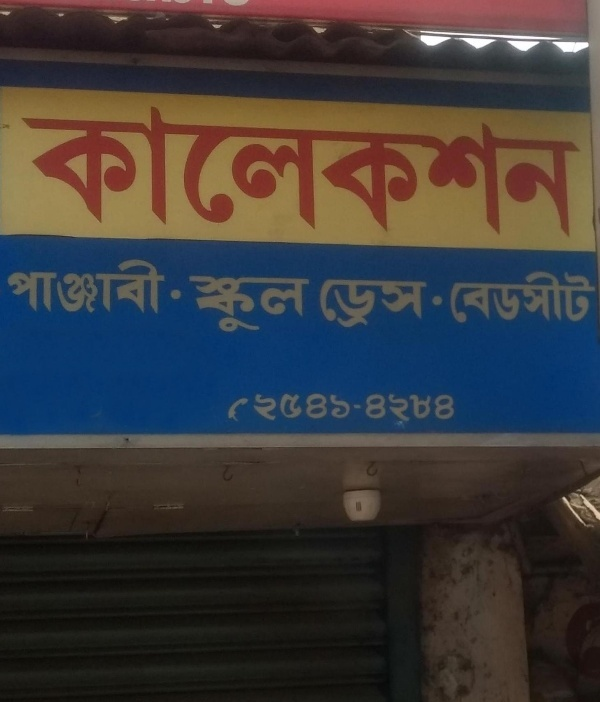text: (33, 99, 48, 242), (49, 99, 64, 242), (65, 99, 80, 242), (81, 99, 96, 242), (97, 99, 112, 242), (113, 99, 128, 242), (129, 99, 144, 242), (145, 99, 160, 242), (161, 99, 176, 242), (177, 99, 192, 242), (193, 99, 208, 242), (209, 99, 224, 242), (225, 99, 240, 242), (241, 99, 256, 242), (257, 99, 272, 242), (273, 99, 288, 242), (289, 99, 304, 242), (305, 99, 320, 242), (321, 99, 336, 242), (337, 99, 352, 242), (353, 99, 368, 242), (369, 99, 384, 242), (385, 99, 400, 242), (401, 99, 416, 242), (417, 99, 432, 242), (433, 99, 448, 242), (449, 99, 464, 242), (465, 99, 480, 242), (481, 99, 496, 242), (497, 99, 512, 242), (513, 99, 528, 242), (529, 99, 544, 242), (545, 99, 560, 242), (561, 99, 576, 242), (19, 99, 32, 242), (449, 268, 464, 329), (465, 268, 480, 329), (481, 268, 496, 329), (497, 268, 512, 329), (513, 268, 528, 329), (529, 268, 544, 329), (545, 268, 560, 329), (561, 268, 576, 329), (577, 268, 592, 329), (193, 276, 208, 335), (209, 276, 224, 335), (225, 276, 240, 335), (241, 276, 256, 335), (257, 276, 272, 335), (273, 276, 288, 335), (289, 276, 304, 335), (305, 276, 320, 335), (17, 257, 32, 315), (33, 257, 48, 315), (49, 257, 64, 315), (65, 257, 80, 315), (81, 257, 96, 315), (97, 257, 112, 315), (113, 257, 128, 315), (129, 257, 144, 315), (145, 257, 160, 315), (2, 257, 16, 315), (321, 279, 336, 331), (337, 279, 352, 331), (353, 279, 368, 331), (369, 279, 384, 331), (385, 279, 400, 331), (401, 279, 416, 331), (577, 99, 582, 242), (417, 279, 428, 331), (433, 272, 445, 319), (257, 390, 272, 426), (273, 390, 288, 426), (289, 390, 304, 426), (305, 390, 320, 426), (321, 390, 336, 426), (337, 390, 352, 426), (353, 390, 368, 426), (369, 390, 384, 426), (385, 390, 400, 426), (401, 390, 416, 426), (417, 390, 432, 426), (433, 390, 448, 426), (161, 257, 168, 315), (449, 390, 460, 426), (227, 394, 240, 423), (167, 271, 176, 302), (241, 394, 250, 423), (593, 268, 597, 329), (177, 271, 184, 302), (189, 276, 192, 335), (252, 390, 256, 426)
